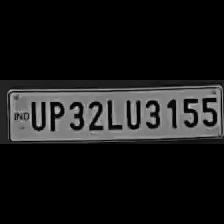1: (162, 95, 178, 129)
2: (84, 96, 104, 132)
3: (142, 94, 162, 130), (64, 97, 84, 131)
5: (178, 94, 198, 128), (198, 94, 218, 128)
L: (104, 96, 122, 130)
P: (45, 96, 65, 132)
U: (122, 95, 142, 129), (27, 97, 45, 131)
